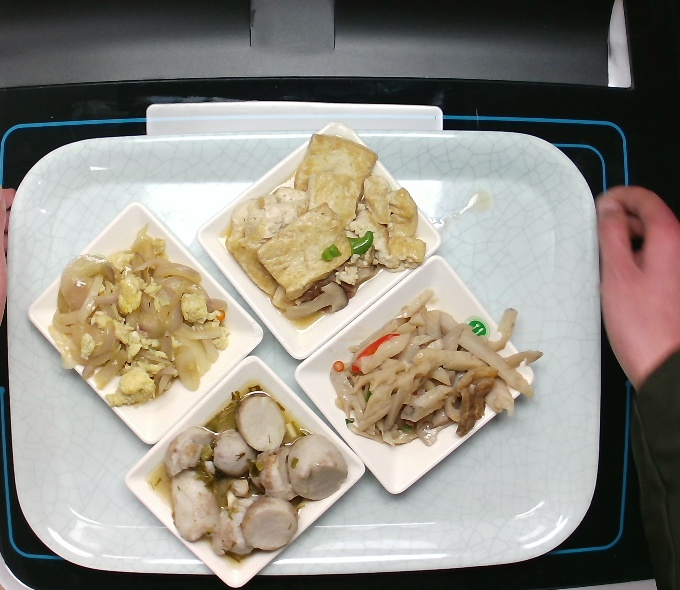wcq-JiaChangDouFu: (221, 131, 432, 320)
wcq-QingChaoOuPian: (326, 285, 546, 453)
wcq-YangCongChaoDan: (45, 222, 234, 409)
wcq-YangYu: (143, 378, 356, 566)
